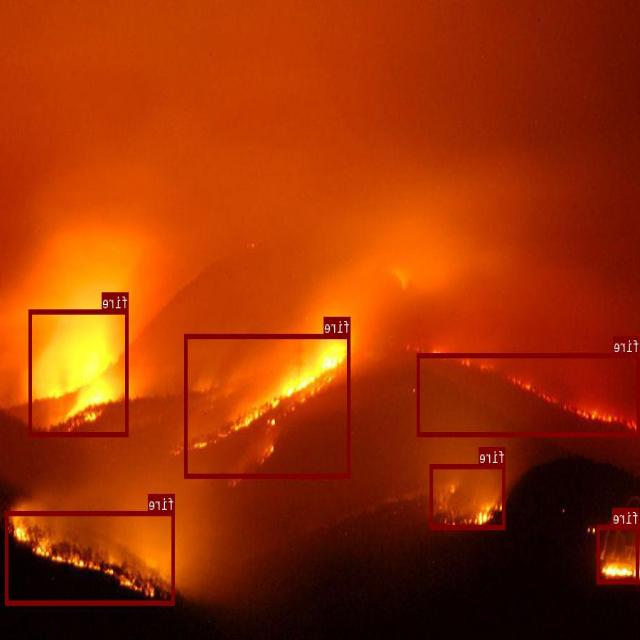fire: (185, 333, 351, 477), (418, 352, 640, 436), (6, 510, 175, 604), (30, 308, 129, 436), (430, 463, 506, 529), (598, 524, 640, 583)
